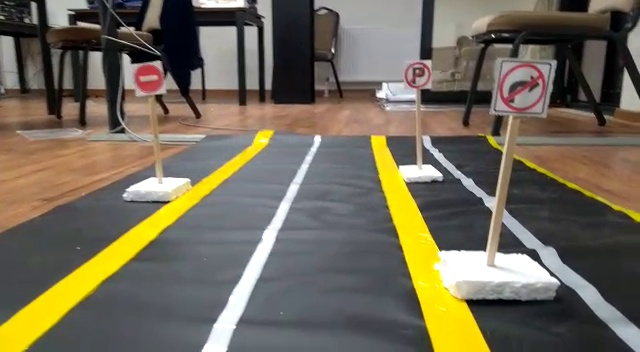girisi_olmayan_yol: (133, 61, 165, 93)
park_yapilmaz: (404, 63, 431, 89)
saga_donulmez: (495, 58, 550, 115)
